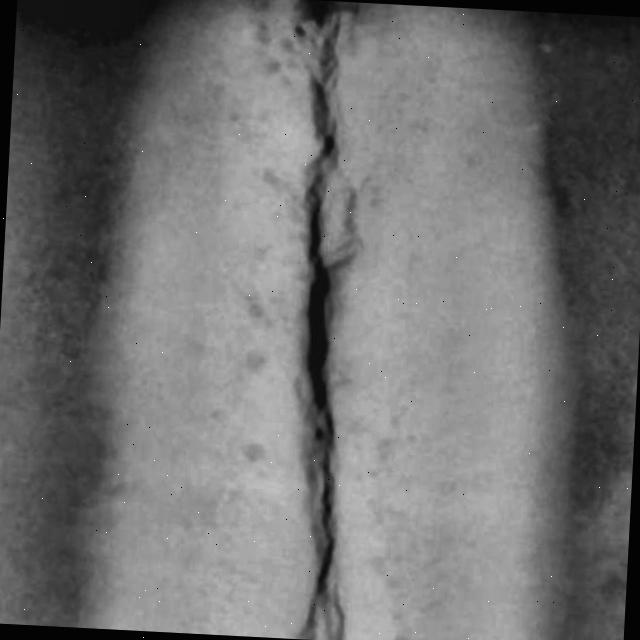LoP-LoF: (205, 0, 420, 640)
